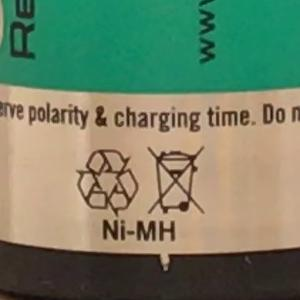keyword: (93, 211, 185, 251)
